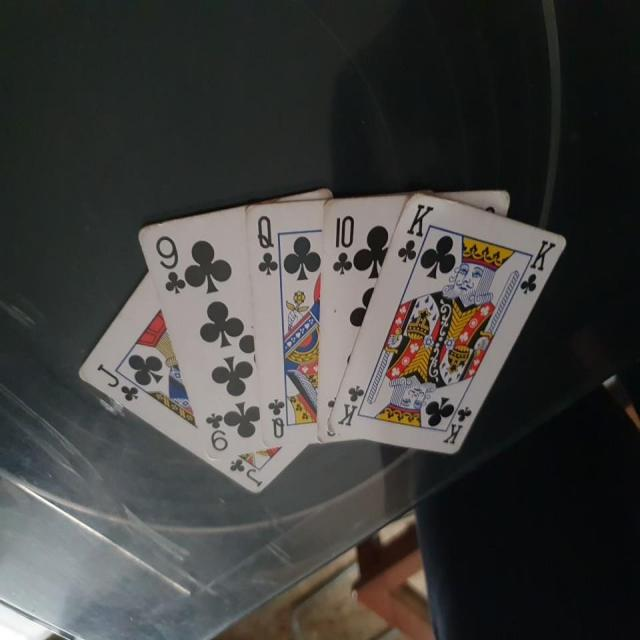10 Trefoils: (312, 186, 511, 445)
9 Trefoils: (135, 186, 330, 461)
J Trefoils: (76, 270, 306, 494)
K Trefoils: (329, 194, 569, 456)
Q Trefoils: (246, 200, 326, 447)
